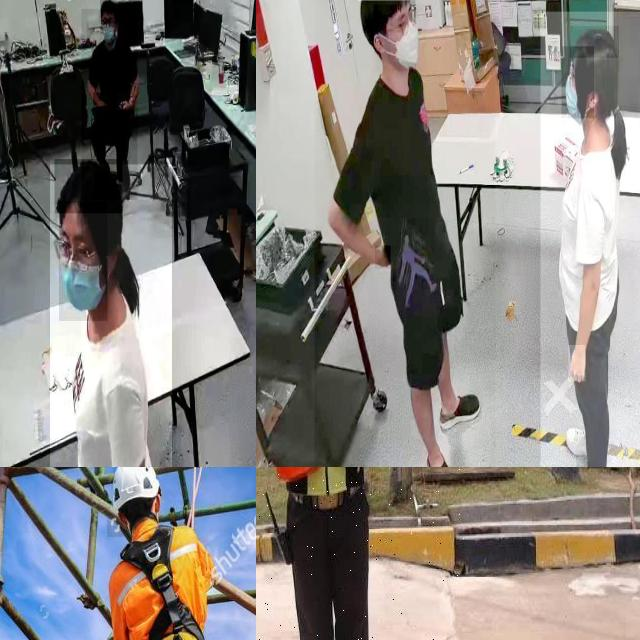Harness: (121, 525, 206, 640)
face_mask: (59, 201, 107, 321), (374, 5, 426, 71), (562, 46, 594, 118), (99, 11, 117, 41)
glasses: (50, 232, 96, 274), (397, 0, 420, 39)
hand_noglove: (568, 345, 586, 382), (375, 246, 391, 270), (117, 92, 133, 112), (93, 92, 106, 110)
head_nohelmet: (55, 159, 123, 214), (570, 26, 620, 59), (100, 0, 117, 12)
person: (314, 0, 495, 467), (540, 11, 640, 467), (49, 164, 172, 467), (256, 467, 467, 640), (82, 9, 138, 200)
shoes: (436, 389, 485, 432), (564, 417, 604, 458), (421, 442, 462, 467)
